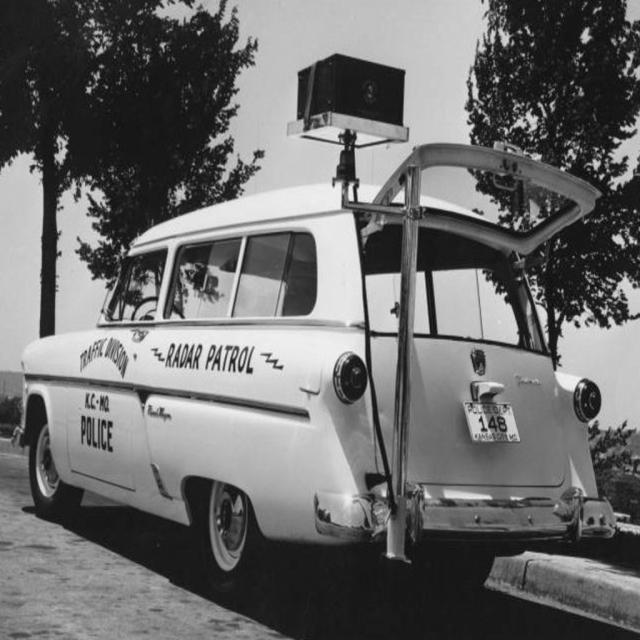car: (28, 129, 608, 601)
